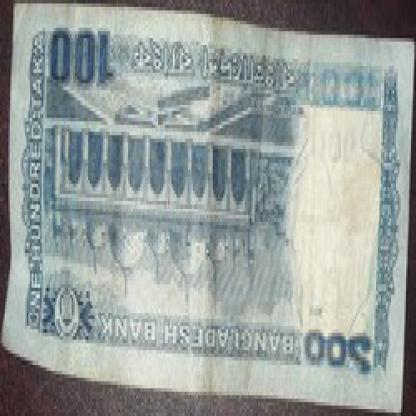one hundred taka: (40, 21, 120, 97), (303, 319, 378, 385)
